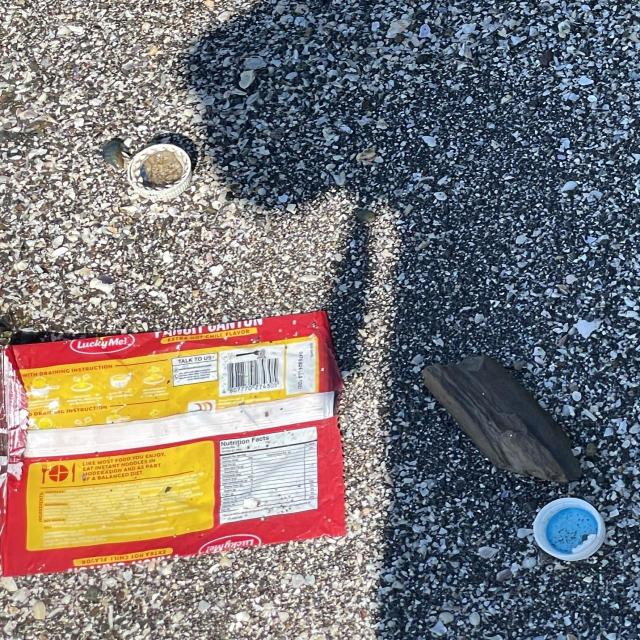plastic_waste: (1, 312, 345, 576), (535, 498, 609, 562), (127, 144, 196, 200)
